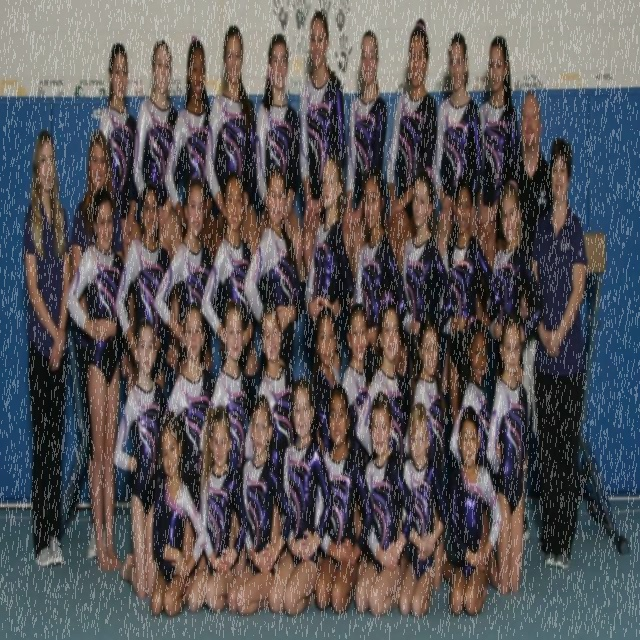pessoa: (527, 131, 590, 572), (494, 89, 554, 549), (64, 180, 132, 576), (67, 121, 126, 565), (21, 123, 75, 573), (111, 312, 174, 604), (266, 373, 336, 617), (437, 175, 503, 430), (162, 299, 216, 598), (228, 393, 296, 619), (244, 300, 298, 576), (400, 166, 456, 429), (203, 22, 264, 260), (354, 390, 417, 618), (186, 402, 251, 620), (383, 17, 438, 274), (298, 8, 348, 290), (315, 381, 375, 615), (152, 175, 218, 385), (164, 35, 224, 265), (144, 407, 208, 622), (474, 34, 519, 323), (394, 398, 452, 622), (445, 404, 504, 622), (403, 312, 448, 594), (484, 178, 546, 380), (114, 181, 173, 393), (431, 28, 484, 264), (244, 166, 305, 371), (353, 164, 409, 387), (200, 169, 258, 382), (341, 28, 388, 288), (486, 311, 528, 598), (256, 34, 304, 280), (304, 150, 356, 376), (99, 41, 142, 268), (448, 317, 502, 493), (356, 301, 410, 475), (132, 35, 182, 221), (198, 297, 248, 477), (341, 301, 373, 473), (312, 304, 342, 454)
